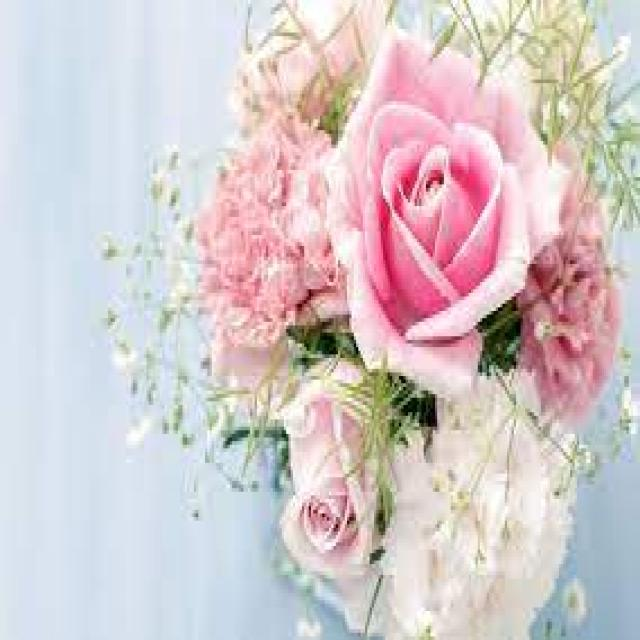rose: (326, 29, 574, 394)
